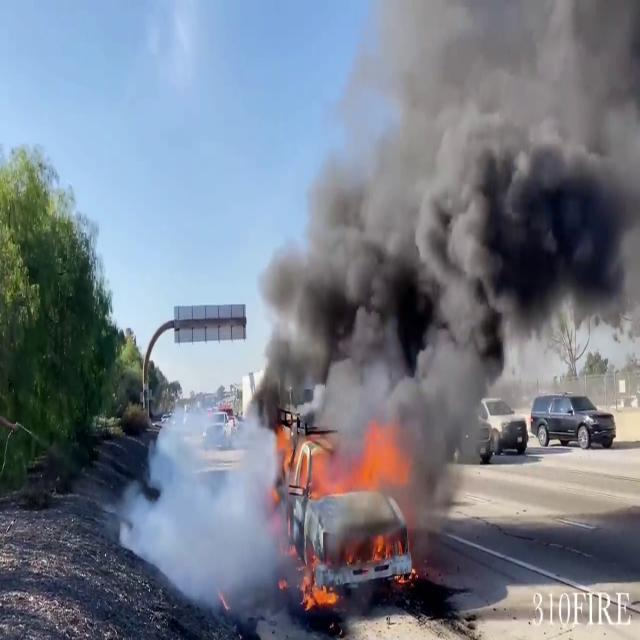Smoke: (253, 0, 640, 457), (118, 386, 362, 612)
